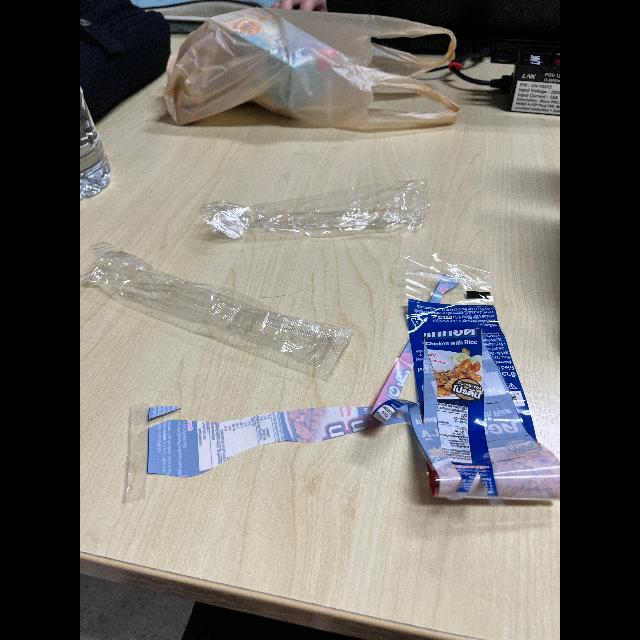scrap_plastic: (358, 258, 560, 512), (80, 246, 356, 380), (186, 162, 448, 262)
